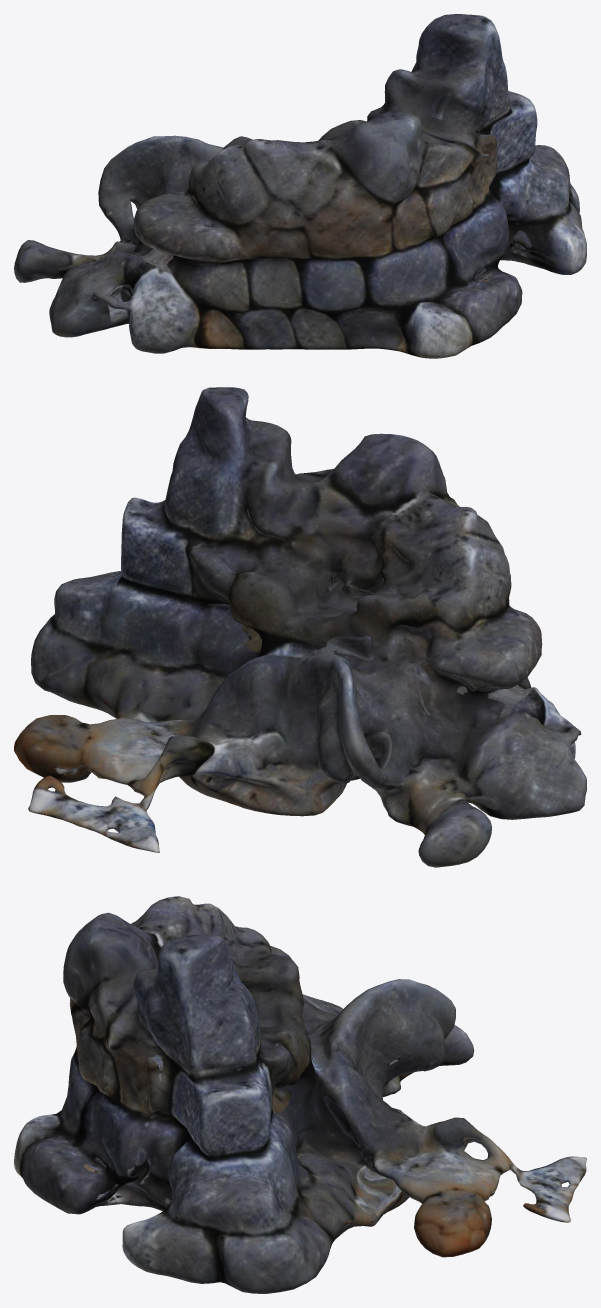
Rendered from Rubble 3.fbx.
The picture shows the model from 3 angles, top to bottom: view 1: azimuth 30°, elevation 25°; view 2: azimuth 150°, elevation 25°; view 3: azimuth 270°, elevation 25°; orthographic projection. The views are drawn at different scales.
Visible parts, largest first — view 1: mesh; view 2: mesh; view 3: mesh.
Boxes of the visible parts, box(x1,y1,x2,y2) form: mesh: box(14, 14, 586, 358); mesh: box(14, 387, 586, 867); mesh: box(14, 896, 586, 1293).
Size of the model in its own units: 99.68 by 52.24 by 89.56.
